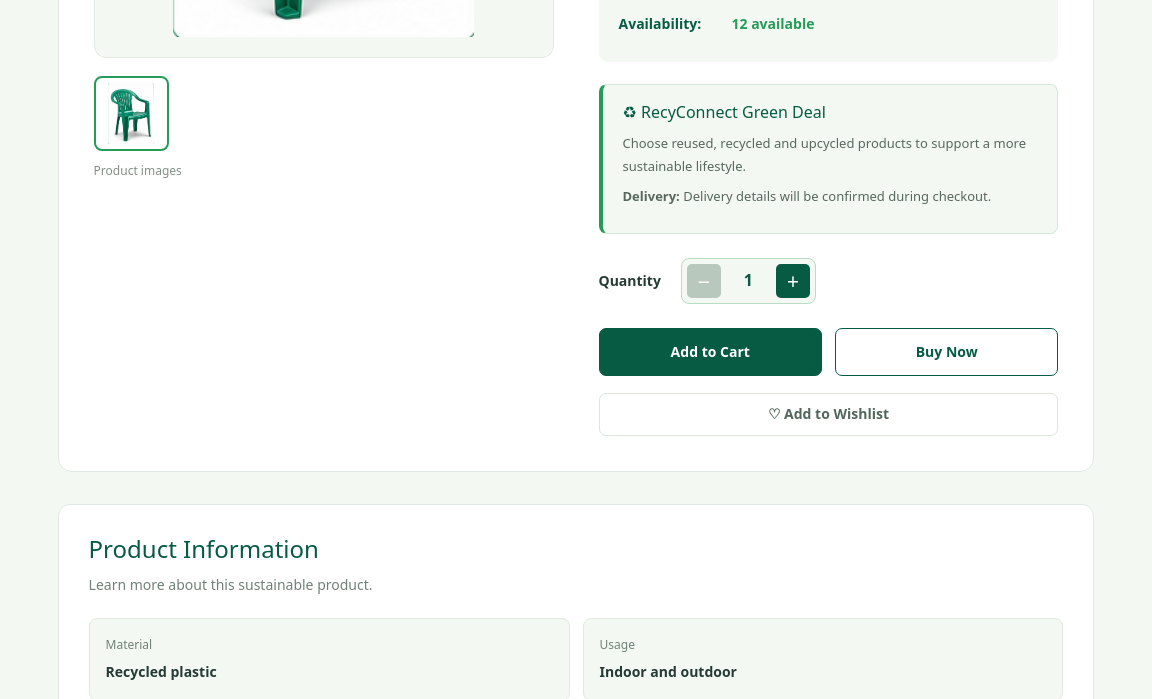
Test case: ProductDetails Component › Cart Functionality › adds the product to the cart
(page scrolled)
Click the button with class "details-add-cart": coordinates (710, 352) left=598, top=328, right=822, bottom=376
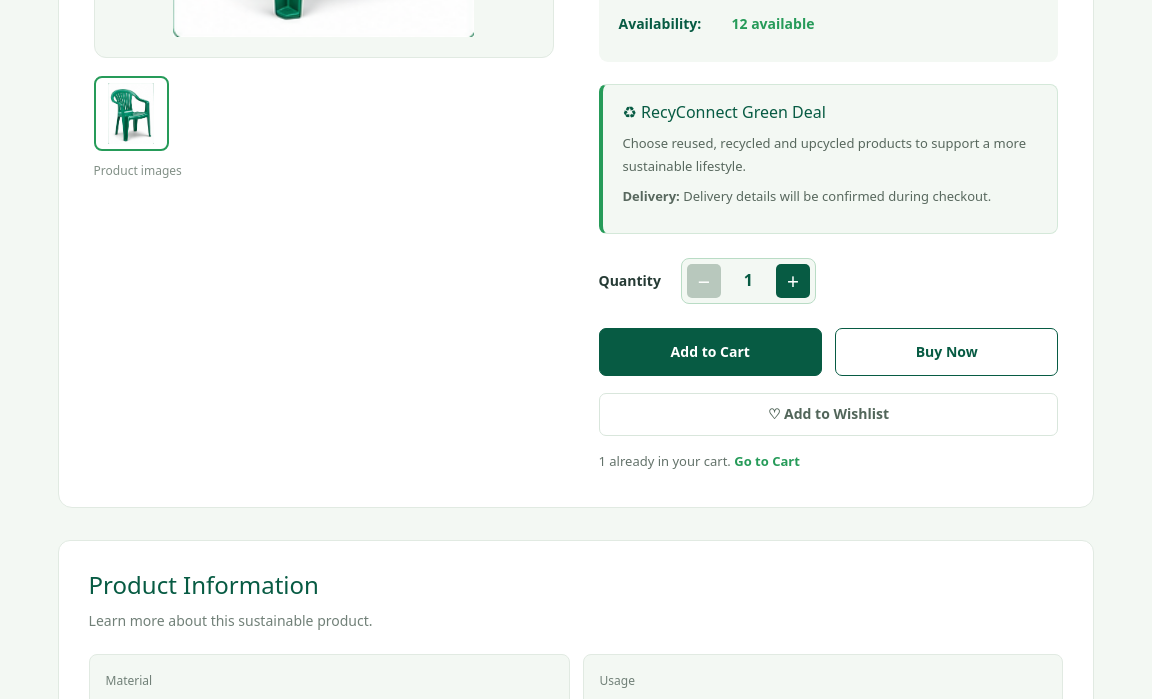
Check: the element with class "already-in-cart" shows "1 already in your cart.", box left=598, top=452, right=800, bottom=470
